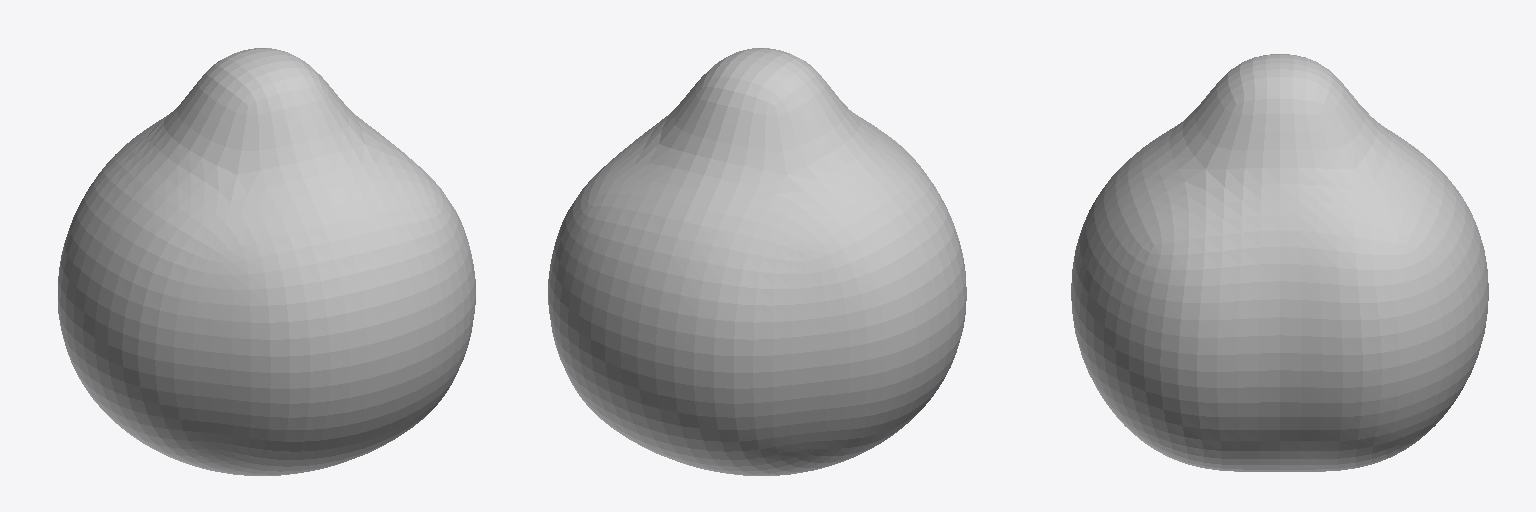
File: LV1_Tulip.obj
3 views of the same model, side by side, from view 1: azimuth 30°, elevation 25°; view 2: azimuth 150°, elevation 25°; view 3: azimuth 270°, elevation 25° (orthographic).
Visible parts, largest first — view 1: 튭립구근; view 2: 튭립구근; view 3: 튭립구근.
Boxes of the visible parts, <box> form: 튭립구근: <box>58,48,475,475</box>; 튭립구근: <box>548,48,966,475</box>; 튭립구근: <box>1071,54,1488,471</box>.
Size of the model in its own units: 1.76 by 1.91 by 1.84.